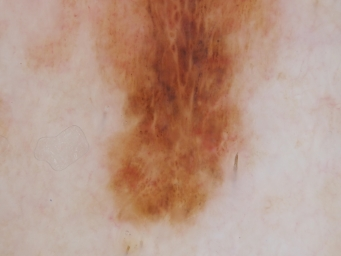melanoma: (107, 1, 237, 228)
